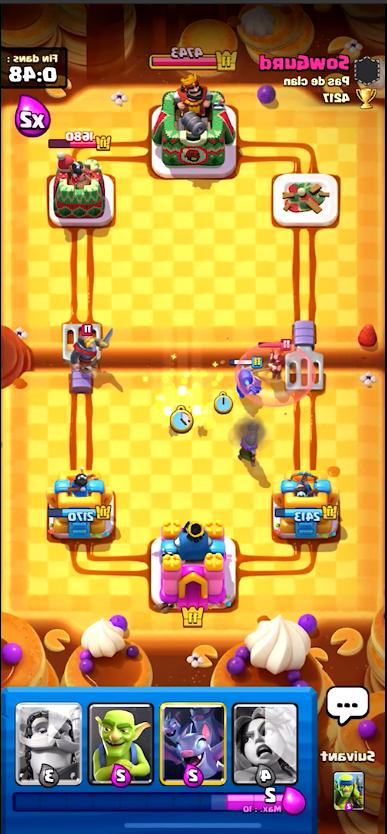chevalier: (68, 323, 112, 371)
mini_PEKKA: (231, 355, 262, 406)
mousquetaire: (235, 420, 260, 468)
valkyrie: (259, 338, 292, 378)
